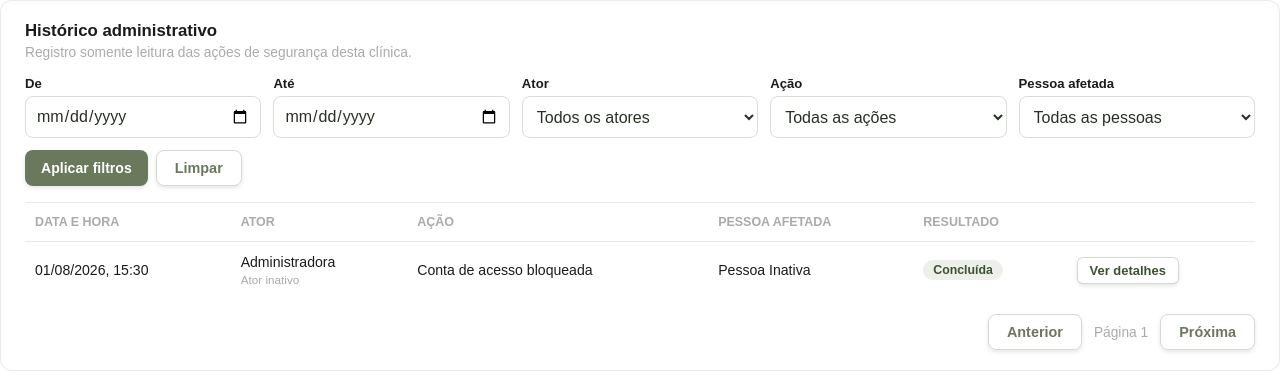
Test: TeamAuditHistory › navega por cursores sem usar offset
Expected: the navigation bar named "Paginação do histórico" shows "Página 1", left=988, top=314, right=1255, bottom=350
Click the button "Próxima": (1208, 332) left=1160, top=314, right=1255, bottom=350
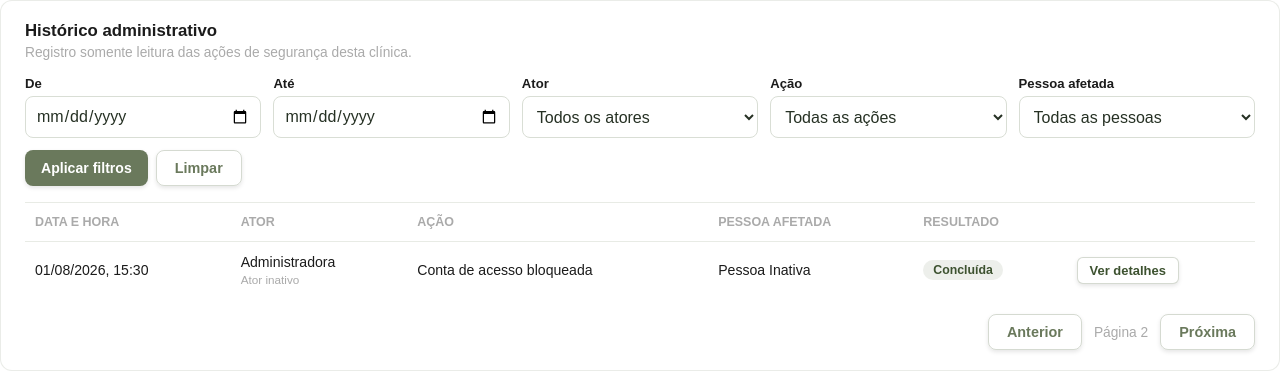
Result: the navigation bar named "Paginação do histórico" shows "Página 2" at left=988, top=314, right=1255, bottom=350
Click the button "Anterior": (1035, 332) left=988, top=314, right=1082, bottom=350
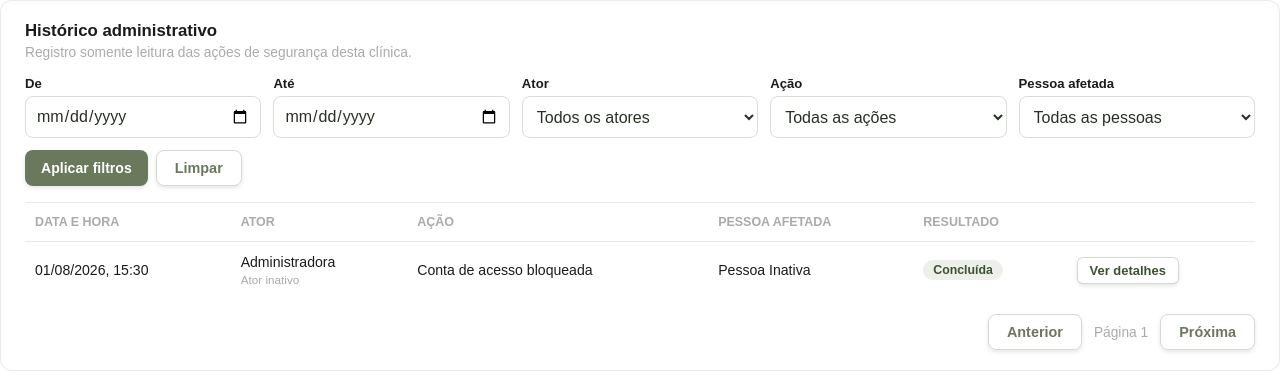
Result: the navigation bar named "Paginação do histórico" shows "Página 1" at left=988, top=314, right=1255, bottom=350
